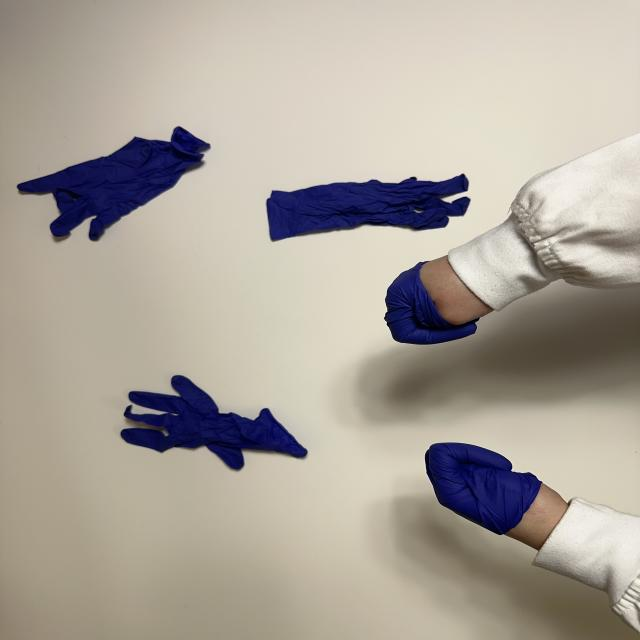glove_not_fitted: (424, 439, 572, 551), (384, 255, 502, 347)
